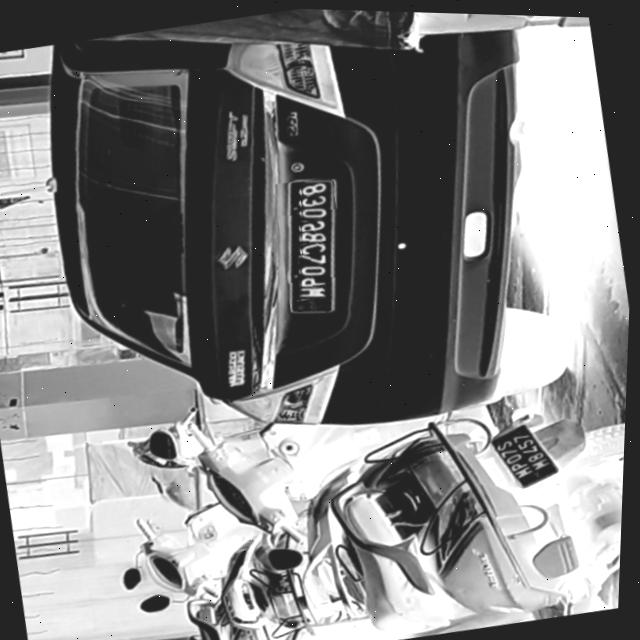0: (301, 201, 329, 218), (301, 260, 329, 275)
3: (301, 190, 329, 205)
6: (301, 214, 328, 228)
7: (301, 248, 329, 263)
8: (301, 178, 330, 194)
B: (301, 226, 328, 241)
C: (302, 237, 328, 252)
IND: (299, 293, 320, 309)
Indian_registered: (291, 176, 338, 309)
M: (301, 281, 329, 298)
P: (300, 271, 329, 288)
